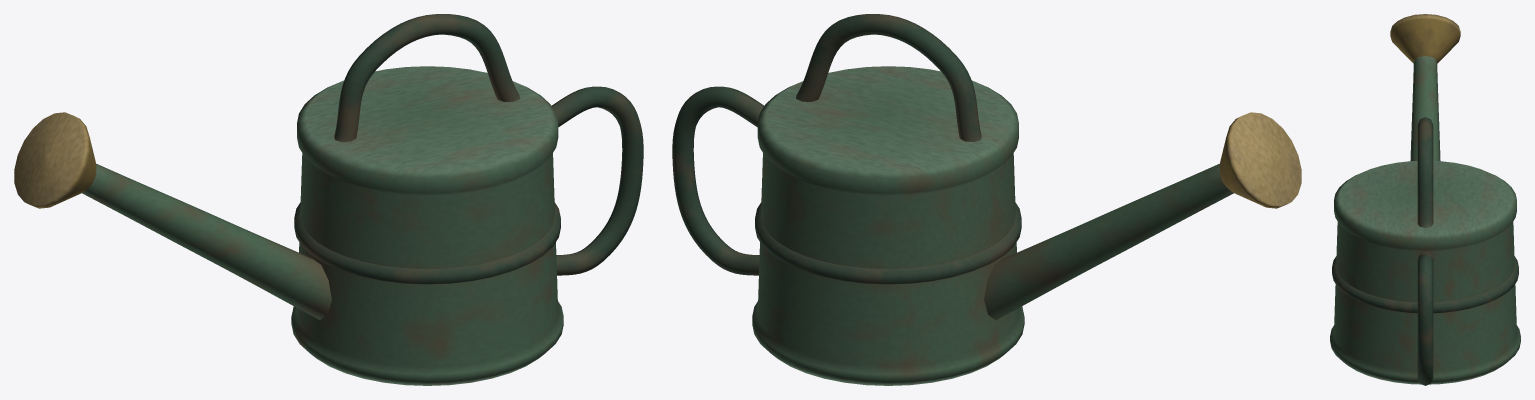
The model's file is konewka.glb.
3 views of the same model, side by side, from view 1: azimuth 30°, elevation 25°; view 2: azimuth 150°, elevation 25°; view 3: azimuth 270°, elevation 25° (orthographic). The views are drawn at different scales.
Parts seen in each view (by area): view 1: Konewka; view 2: Konewka; view 3: Konewka.
Part boxes in pixels (x1,y1,x2,y2): Konewka: (14, 14, 643, 385); Konewka: (672, 14, 1301, 385); Konewka: (1330, 14, 1520, 385).
Bounding box in the file's own units: 0.5137 × 0.2513 × 0.196.
Materials: 1 (1 with a texture image).
